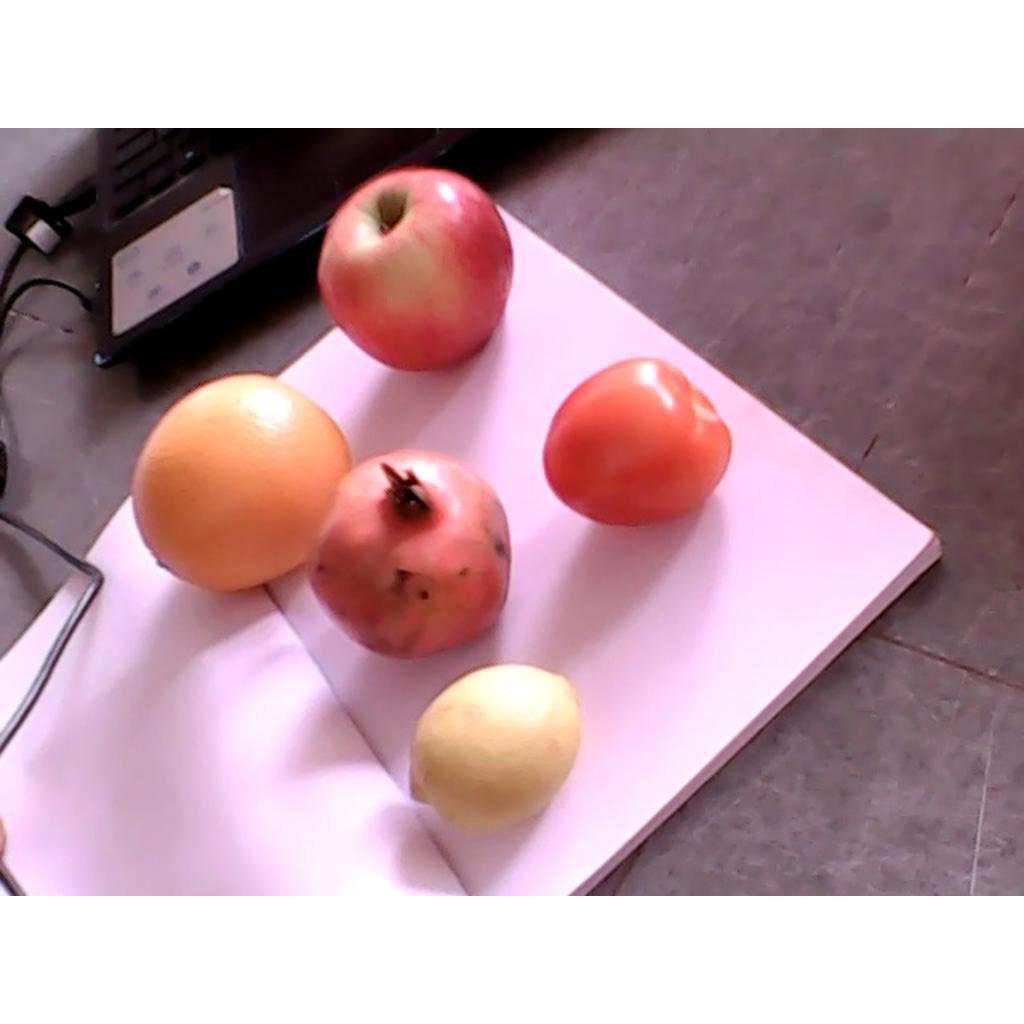apple: (317, 171, 512, 368)
lemon: (407, 664, 580, 837)
orange: (130, 372, 347, 591)
pomegranate: (303, 449, 514, 663)
tomato: (544, 356, 736, 527)
